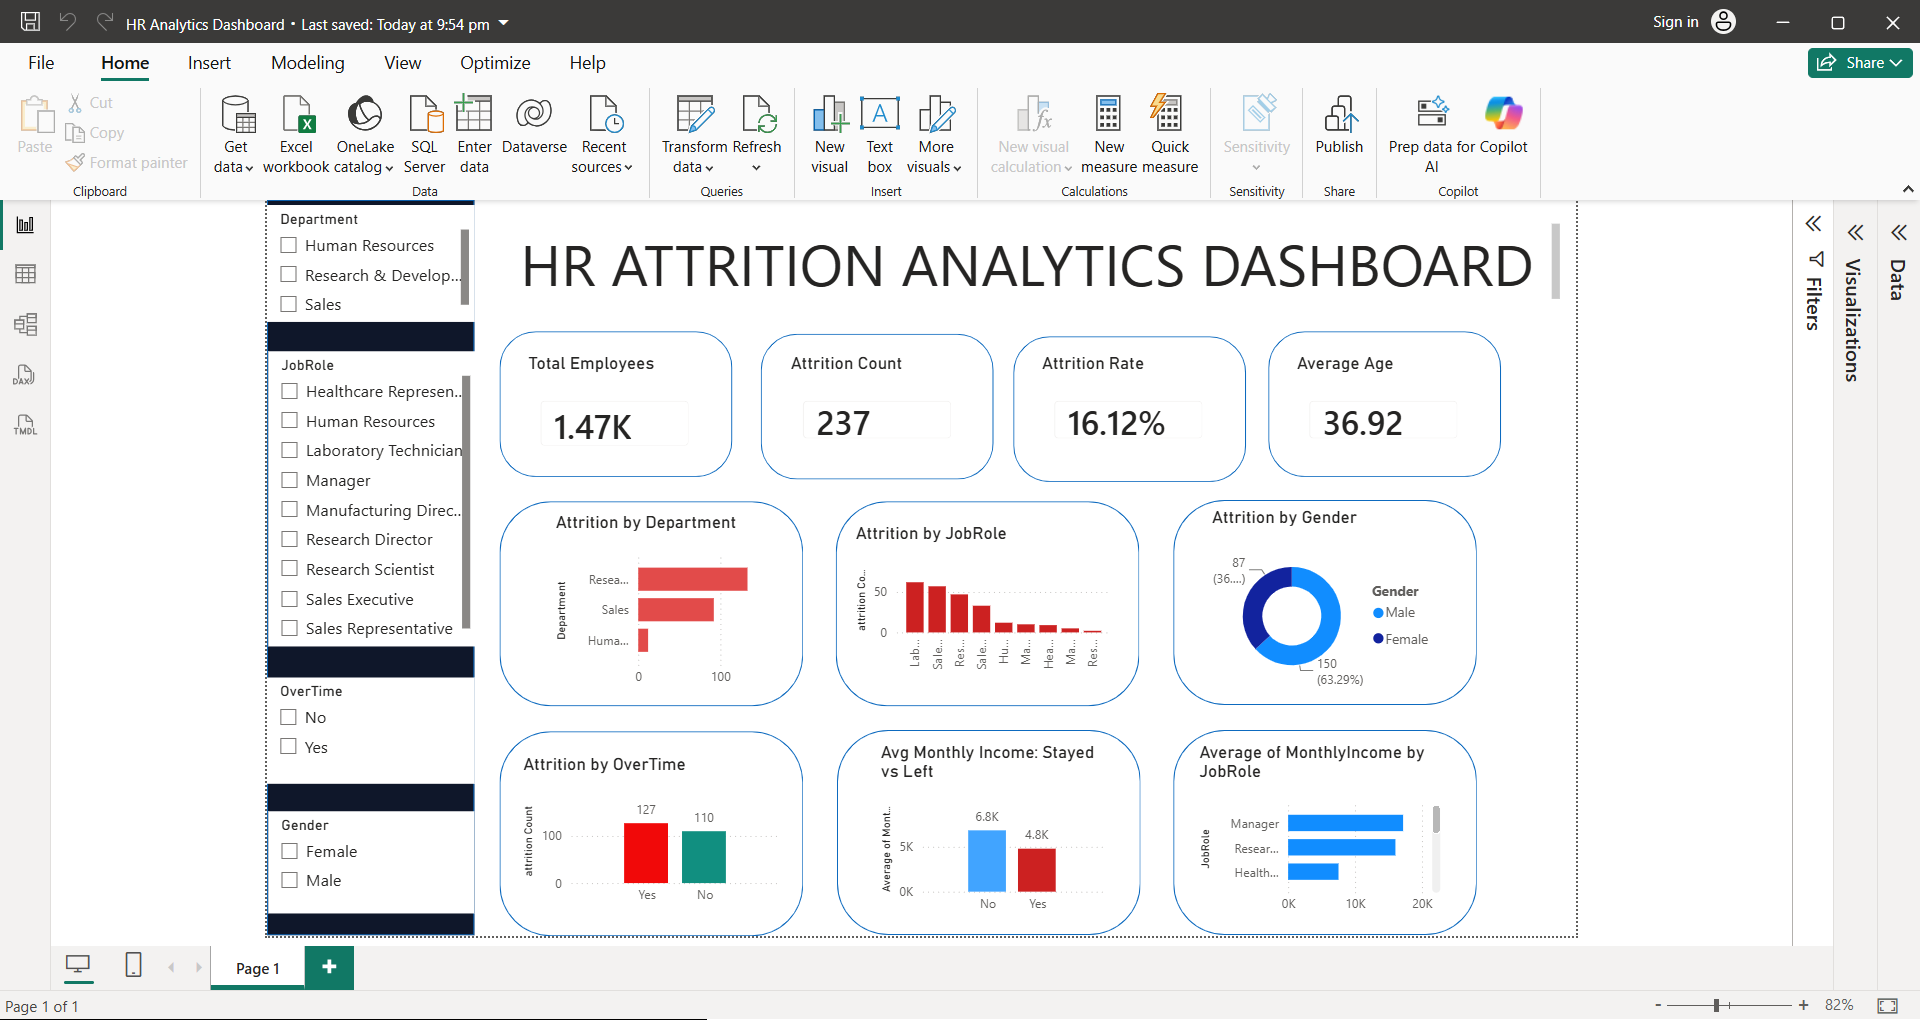

The page's visual inventory and layout, read from the dashboard file:
{"tool":"powerbi","page":{"name":"Page 1","canvas":[1280,720],"ordinal":0},"visuals":[{"type":"shape","box":[0,0,202.8,719.3],"z":0},{"type":"textbox","box":[212.9,18.6,1057.1,84.3],"z":1000},{"type":"shape","box":[227.8,129,227.8,142.7],"z":2000},{"type":"shape","box":[483,130.4,227.8,142.7],"z":3000},{"type":"shape","box":[979.8,129,227.8,142.7],"z":4000},{"type":"shape","box":[730,133.1,227.8,142.7],"z":5000},{"type":"cardVisual","title":" Total Employees","fields":{"Data":["CountNonNull(HR_Employees.Age)"]},"box":[251.1,149.6,179.8,108.4],"z":6000},{"type":"cardVisual","title":"Attrition Count","fields":{"Data":["HR_Employees.attrition Count"]},"box":[507.7,149.6,179.8,101.5],"z":7000},{"type":"cardVisual","title":"Attrition Rate","fields":{"Data":["HR_Employees.attrition Rate"]},"box":[753.3,149.6,179.8,101.5],"z":8000},{"type":"cardVisual","title":"Average Age","fields":{"Data":["HR_Employees.Average Age"]},"box":[1003.1,149.6,179.8,101.5],"z":9000},{"type":"clusteredBarChart","fields":{"Category":["HR_Employees.Department"],"Y":["HR_Employees.attrition Count"]},"box":[957.5,540.5,221.3,179.8],"z":10000},{"type":"shape","box":[557.6,518.5,297.1,200.5],"z":11000},{"type":"shape","box":[227.4,519.7,297.1,200.5],"z":12000},{"type":"shape","box":[886.6,518.5,297.1,200.5],"z":13000},{"type":"shape","box":[886.6,293.5,297.1,200.5],"z":14000},{"type":"shape","box":[556.4,294.7,297.1,200.5],"z":15000},{"type":"shape","box":[227.4,294.7,297.1,200.5],"z":16000},{"type":"clusteredBarChart","title":"Attrition by Department","fields":{"Category":["HR_Employees.Department"],"Y":["HR_Employees.attrition Count"]},"box":[277.6,304.5,221.3,179.8],"z":17000},{"type":"clusteredColumnChart","title":"Attrition  by JobRole","fields":{"Y":["HR_Employees.attrition Count"],"Category":["HR_Employees.JobRole"]},"box":[571.1,315.5,259.2,156.5],"z":18000},{"type":"donutChart","title":"Attrition by Gender","fields":{"Category":["HR_Employees.Gender"],"Y":["HR_Employees.attrition Count"]},"box":[919.6,299.6,232.3,184.6],"z":19000},{"type":"clusteredColumnChart","title":"Attrition by OverTime ","fields":{"Category":["HR_Employees.OverTime"],"Y":["HR_Employees.attrition Count"]},"box":[245.8,541.7,261.7,156.5],"z":20000},{"type":"clusteredColumnChart","title":"Avg Monthly Income: Stayed vs Left","fields":{"Category":["HR_Employees.Attrition"],"Y":["Avg(HR_Employees.MonthlyIncome)"]},"box":[595.7,530,227.1,177.1],"z":21000},{"type":"clusteredBarChart","fields":{"Category":["HR_Employees.JobRole"],"Y":["Avg(HR_Employees.MonthlyIncome)"]},"box":[907.1,530,245.7,177.1],"z":22000},{"type":"slicer","fields":{"Values":["HR_Employees.Department"]},"box":[0,4.3,202.9,114.3],"z":23000},{"type":"slicer","fields":{"Values":["HR_Employees.JobRole"]},"box":[1.4,148.6,202.9,288.6],"z":24000},{"type":"slicer","fields":{"Values":["HR_Employees.OverTime"]},"box":[0,467.1,202.9,104.3],"z":25000},{"type":"slicer","fields":{"Values":["HR_Employees.Gender"]},"box":[1.4,598.6,201.4,100],"z":26000}]}

Visuals, with their boxes on the page's 1280x720 design canvas (x1, y1, x2, y2). These are canvas units, not pixel positions in the 1920x1020 screenshot, which may show the page scaled, cropped or inside an application window:
shape: region(0, 0, 203, 719)
textbox: region(213, 19, 1270, 103)
shape: region(228, 129, 456, 272)
shape: region(483, 130, 711, 273)
shape: region(980, 129, 1208, 272)
shape: region(730, 133, 958, 276)
" Total Employees" cardVisual: region(251, 150, 431, 258)
"Attrition Count" cardVisual: region(508, 150, 688, 251)
"Attrition Rate" cardVisual: region(753, 150, 933, 251)
"Average Age" cardVisual: region(1003, 150, 1183, 251)
clusteredBarChart - HR_Employees.Department x HR_Employees.attrition Count: region(958, 540, 1179, 720)
shape: region(558, 518, 855, 719)
shape: region(227, 520, 524, 720)
shape: region(887, 518, 1184, 719)
shape: region(887, 294, 1184, 494)
shape: region(556, 295, 854, 495)
shape: region(227, 295, 524, 495)
"Attrition by Department" clusteredBarChart: region(278, 304, 499, 484)
"Attrition  by JobRole" clusteredColumnChart: region(571, 316, 830, 472)
"Attrition by Gender" donutChart: region(920, 300, 1152, 484)
"Attrition by OverTime " clusteredColumnChart: region(246, 542, 508, 698)
"Avg Monthly Income: Stayed vs Left" clusteredColumnChart: region(596, 530, 823, 707)
clusteredBarChart - HR_Employees.JobRole x Avg(HR_Employees.MonthlyIncome): region(907, 530, 1153, 707)
slicer - HR_Employees.Department: region(0, 4, 203, 119)
slicer - HR_Employees.JobRole: region(1, 149, 204, 437)
slicer - HR_Employees.OverTime: region(0, 467, 203, 571)
slicer - HR_Employees.Gender: region(1, 599, 203, 699)
